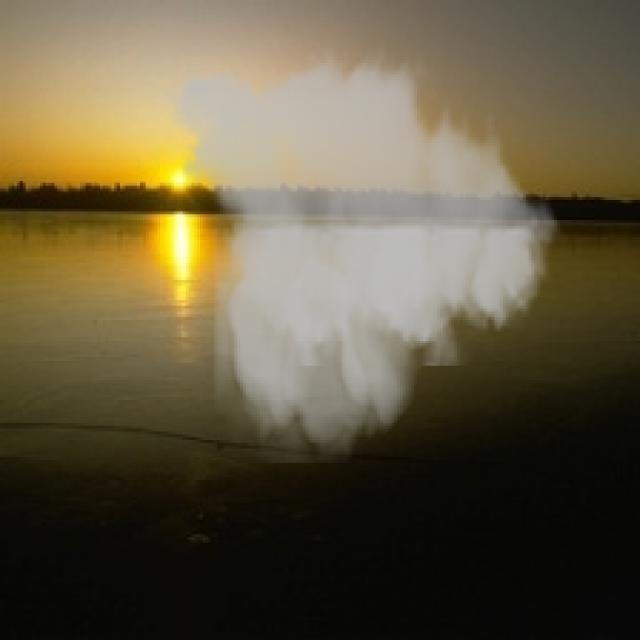Smoke: (152, 43, 572, 463)
